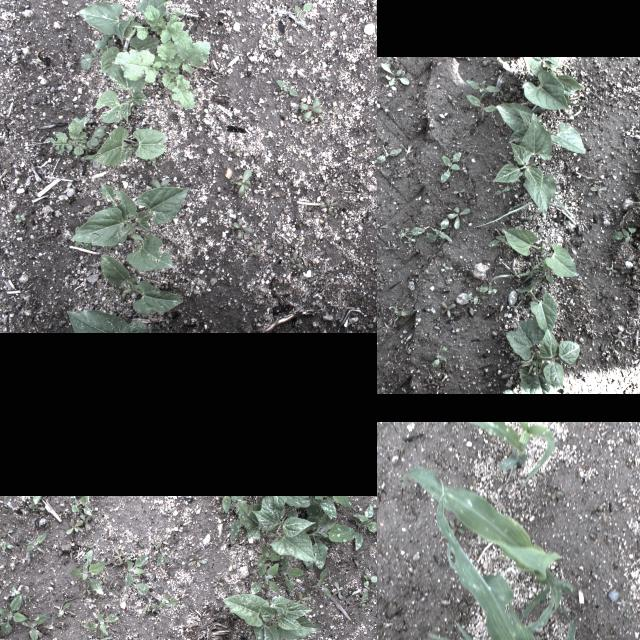crop: (403, 468, 573, 630), (429, 494, 574, 640), (74, 178, 188, 272), (492, 111, 556, 215), (96, 32, 164, 124), (466, 421, 556, 485), (507, 314, 579, 392), (237, 495, 317, 561), (100, 253, 184, 314), (223, 593, 323, 640), (497, 101, 587, 153), (73, 0, 166, 43), (503, 229, 577, 277), (83, 126, 169, 166), (522, 57, 586, 109), (66, 308, 168, 332), (516, 278, 558, 336), (272, 496, 310, 510)
weed: (116, 37, 210, 107), (287, 495, 357, 571), (472, 195, 578, 228), (134, 4, 192, 48), (44, 116, 106, 156), (70, 548, 106, 596), (76, 29, 118, 69), (352, 504, 377, 549), (0, 594, 27, 634), (252, 560, 280, 594), (21, 611, 51, 640), (126, 554, 150, 590), (281, 554, 303, 592), (424, 216, 452, 244), (82, 612, 120, 632), (230, 498, 248, 540), (136, 582, 158, 616), (491, 269, 539, 283), (380, 62, 410, 84), (466, 94, 498, 114), (310, 566, 330, 598), (441, 152, 462, 182), (298, 97, 322, 121), (448, 206, 470, 230), (256, 544, 280, 566), (400, 226, 426, 246), (234, 169, 252, 197), (609, 227, 640, 243), (314, 496, 336, 518), (468, 78, 500, 92), (232, 216, 252, 238), (71, 495, 91, 515), (488, 229, 512, 245), (221, 496, 245, 512), (26, 532, 46, 550), (377, 148, 402, 162), (319, 198, 339, 215), (278, 78, 298, 95), (160, 592, 178, 610), (52, 601, 72, 617), (434, 346, 448, 368), (293, 1, 313, 16), (362, 568, 377, 586), (288, 252, 304, 268), (65, 520, 83, 534), (80, 512, 94, 530), (87, 631, 114, 640), (187, 554, 207, 566), (29, 496, 45, 510), (438, 302, 456, 314), (541, 262, 551, 282), (333, 496, 353, 506), (114, 546, 125, 564), (156, 532, 170, 546), (596, 288, 608, 304), (296, 593, 312, 605), (392, 306, 411, 316), (526, 208, 544, 218), (465, 296, 487, 304), (0, 495, 13, 508), (212, 575, 226, 587), (550, 488, 564, 500), (451, 518, 463, 532), (333, 580, 342, 598), (615, 331, 625, 347), (478, 285, 498, 293), (493, 187, 511, 195), (590, 186, 608, 194), (380, 240, 398, 248), (156, 548, 164, 566), (360, 590, 368, 608), (452, 187, 466, 197), (6, 588, 20, 598), (377, 222, 389, 233), (605, 266, 617, 276), (559, 214, 569, 226), (626, 259, 638, 269), (0, 540, 12, 550), (448, 94, 458, 105), (1, 526, 12, 536), (82, 582, 91, 594), (250, 247, 260, 257), (17, 213, 27, 223), (502, 154, 512, 164), (604, 242, 614, 252), (134, 536, 144, 546), (98, 574, 108, 584), (150, 540, 160, 550), (162, 503, 172, 513), (499, 88, 507, 100), (627, 274, 635, 284), (492, 58, 504, 64), (468, 466, 474, 476), (442, 263, 448, 271), (496, 91, 502, 99), (622, 612, 630, 618), (52, 635, 61, 640), (377, 285, 381, 295), (274, 34, 280, 40), (578, 517, 584, 523), (426, 308, 432, 312)
